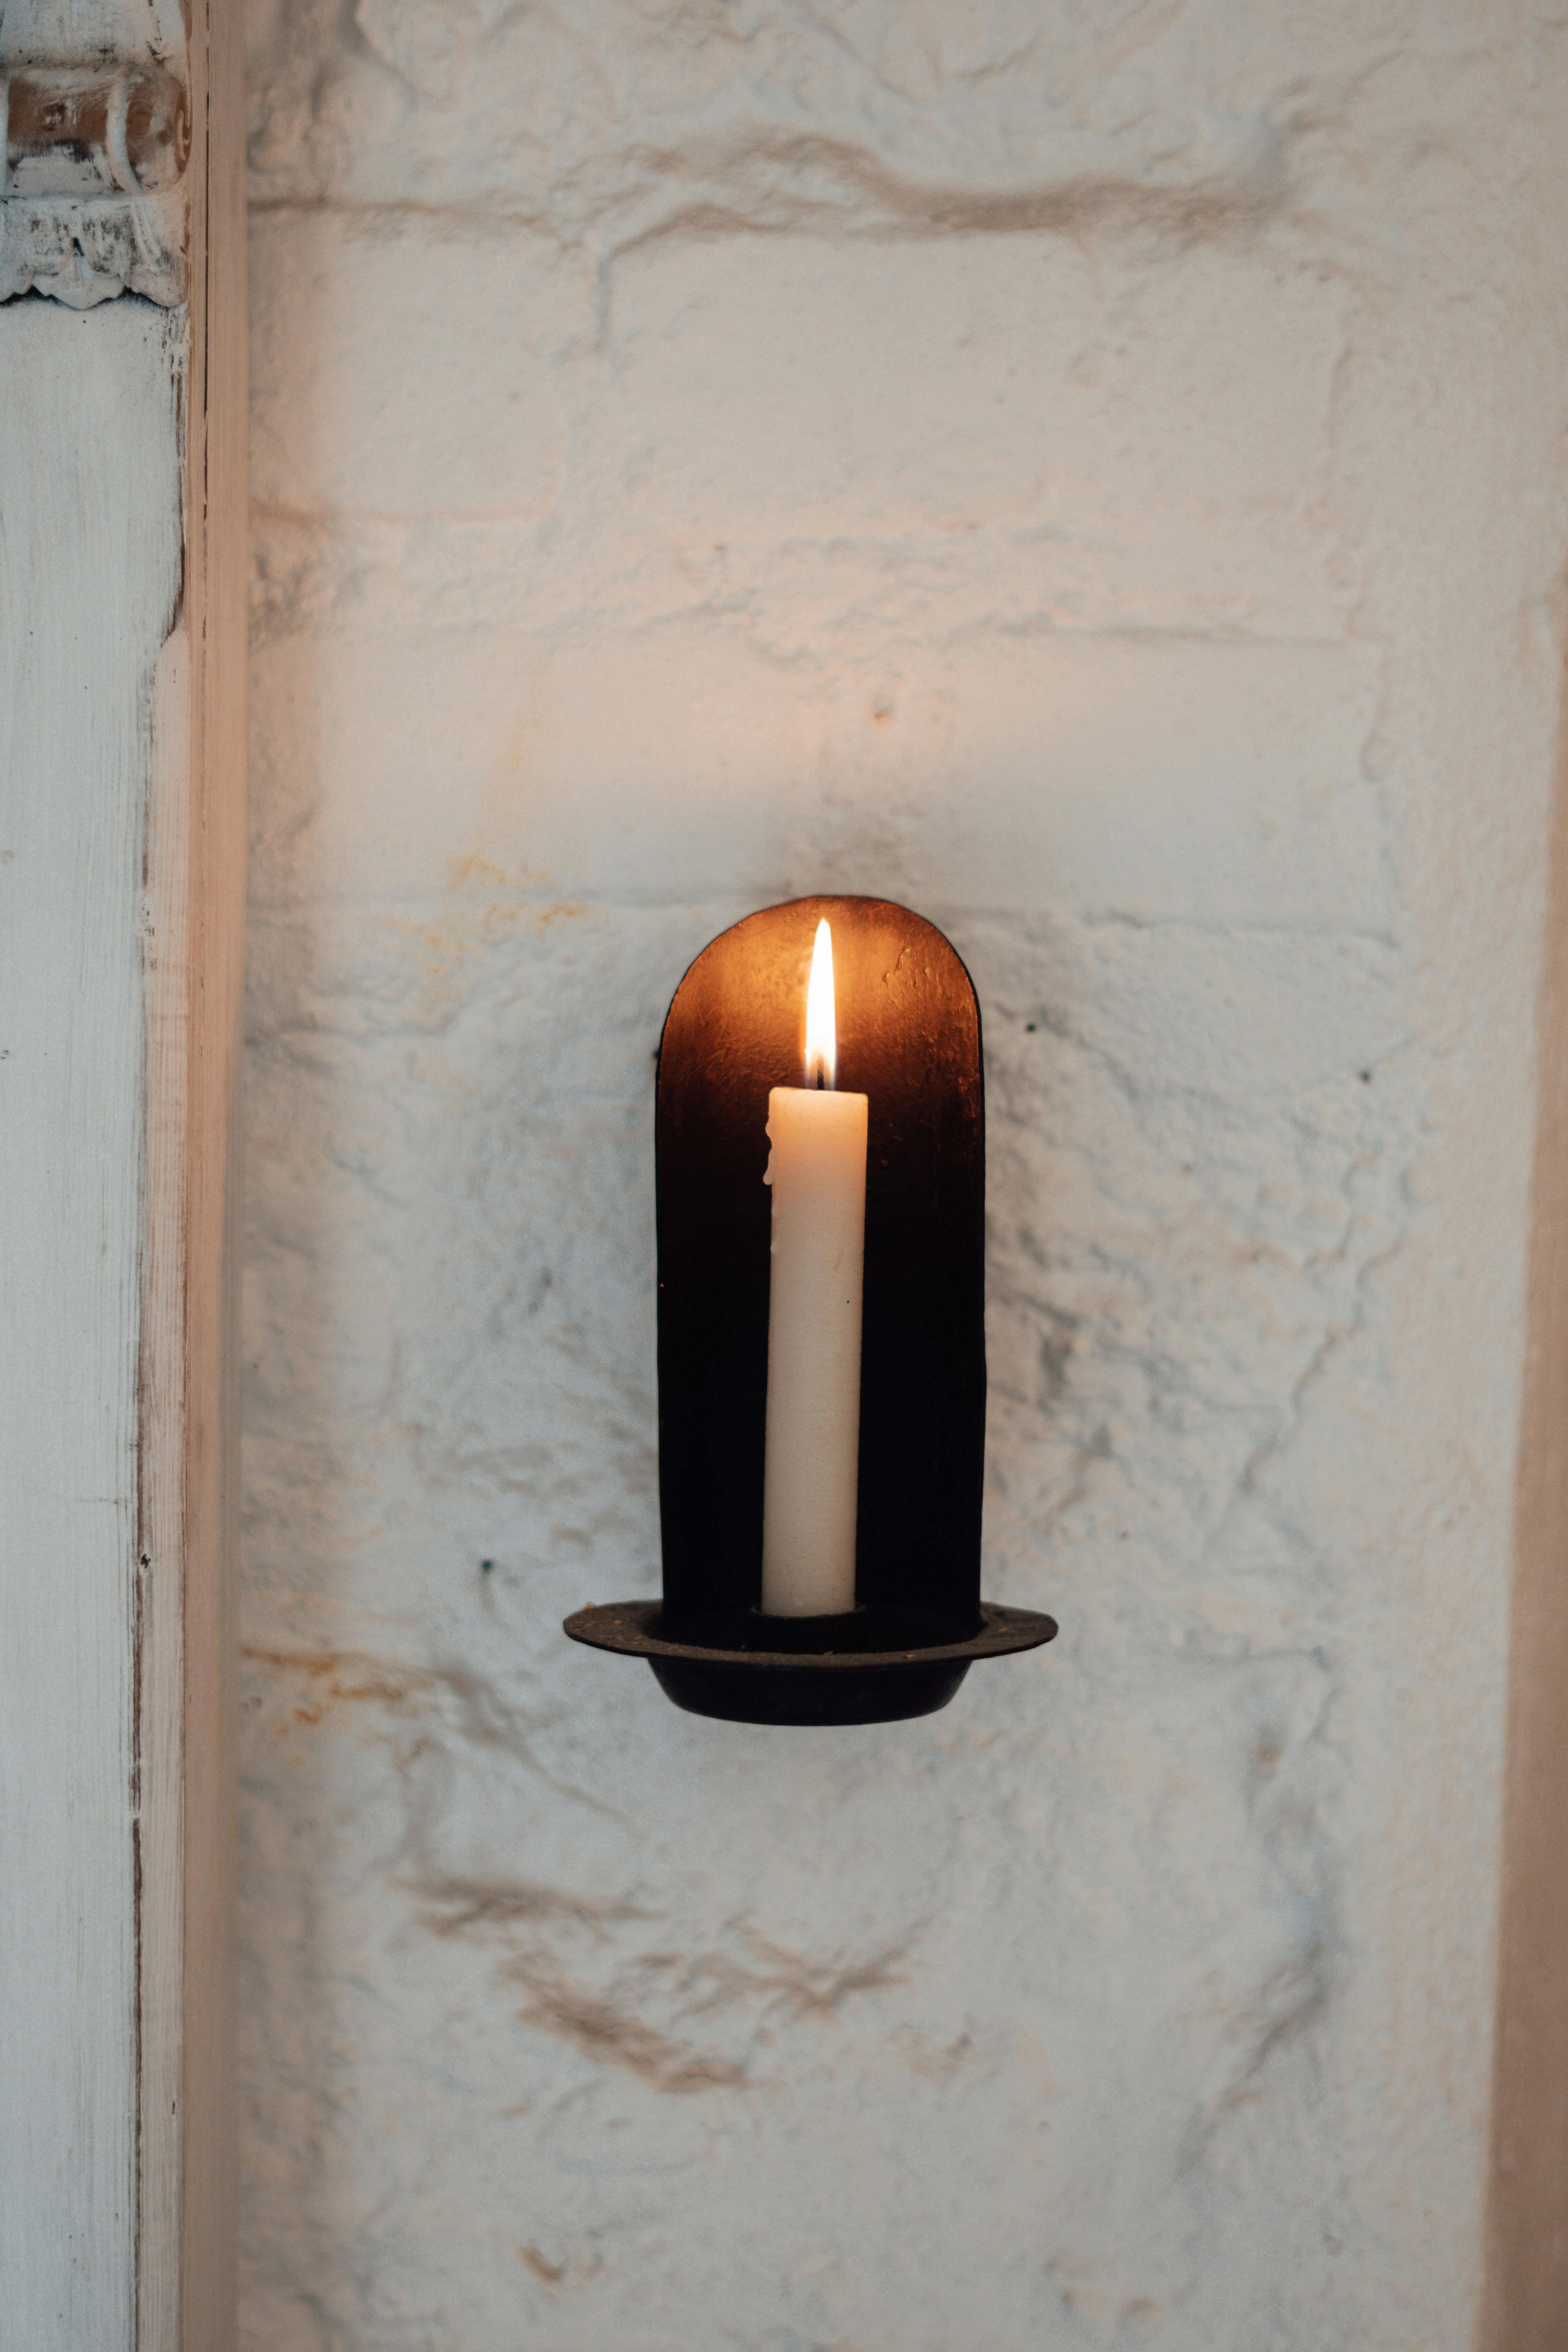Fire: (781, 910, 870, 1087)
